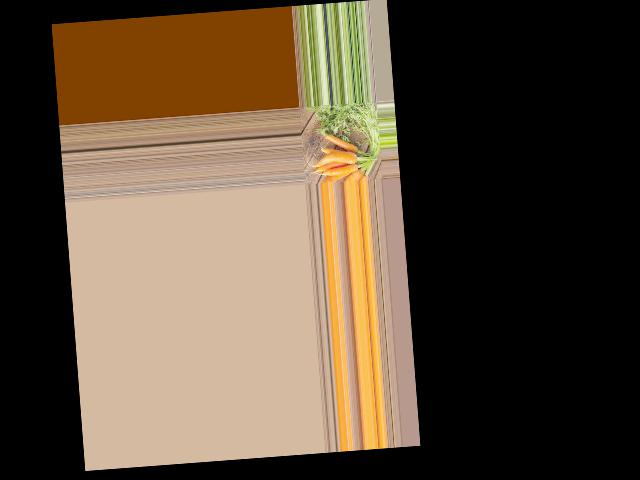carrot: (344, 165, 366, 182)
